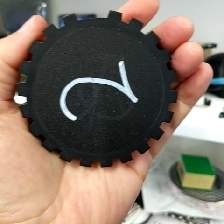gear: (15, 9, 179, 169)
missing: (62, 9, 124, 27)
